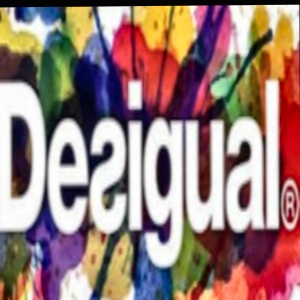desigual: (271, 33, 285, 91)
